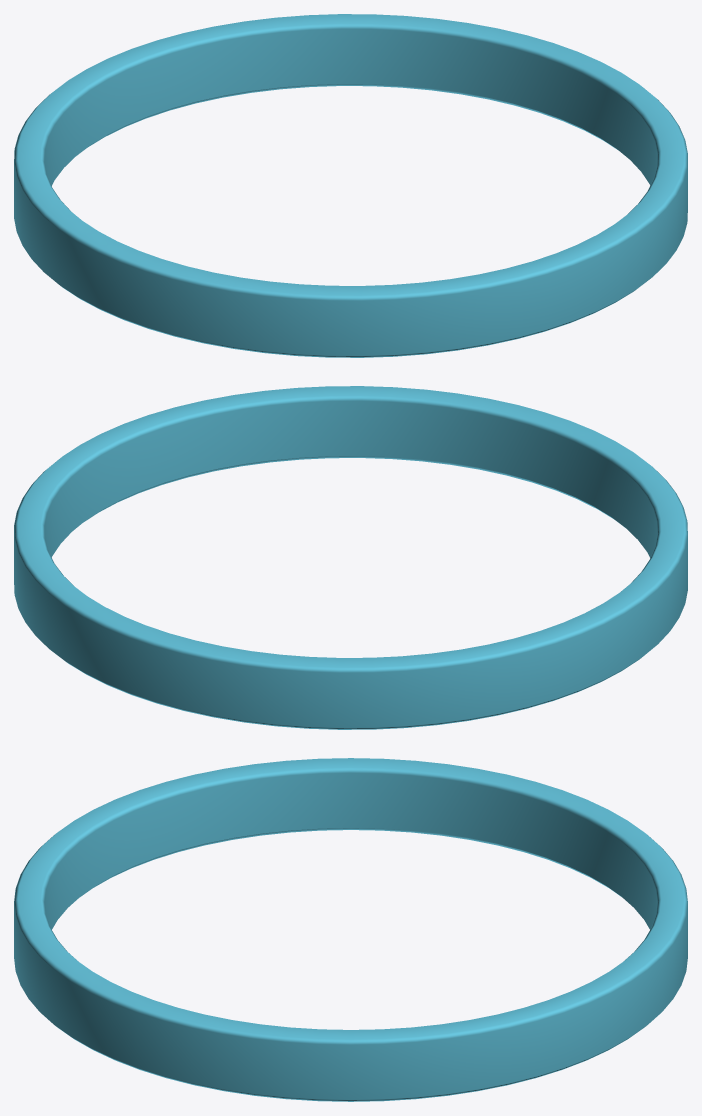
3 renders of one model, top to bottom at view 1: azimuth 30°, elevation 25°; view 2: azimuth 150°, elevation 25°; view 3: azimuth 270°, elevation 25°, orthographic.
Parts seen in each view (by area): view 1: seal_body; view 2: seal_body; view 3: seal_body.
Part boxes in pixels (box(x1,y1,x2,y2)): seal_body: box(14, 14, 687, 357); seal_body: box(14, 386, 687, 729); seal_body: box(14, 758, 687, 1101).
Bounding box in the file's own units: 0.1397 × 0.0143 × 0.1397.
